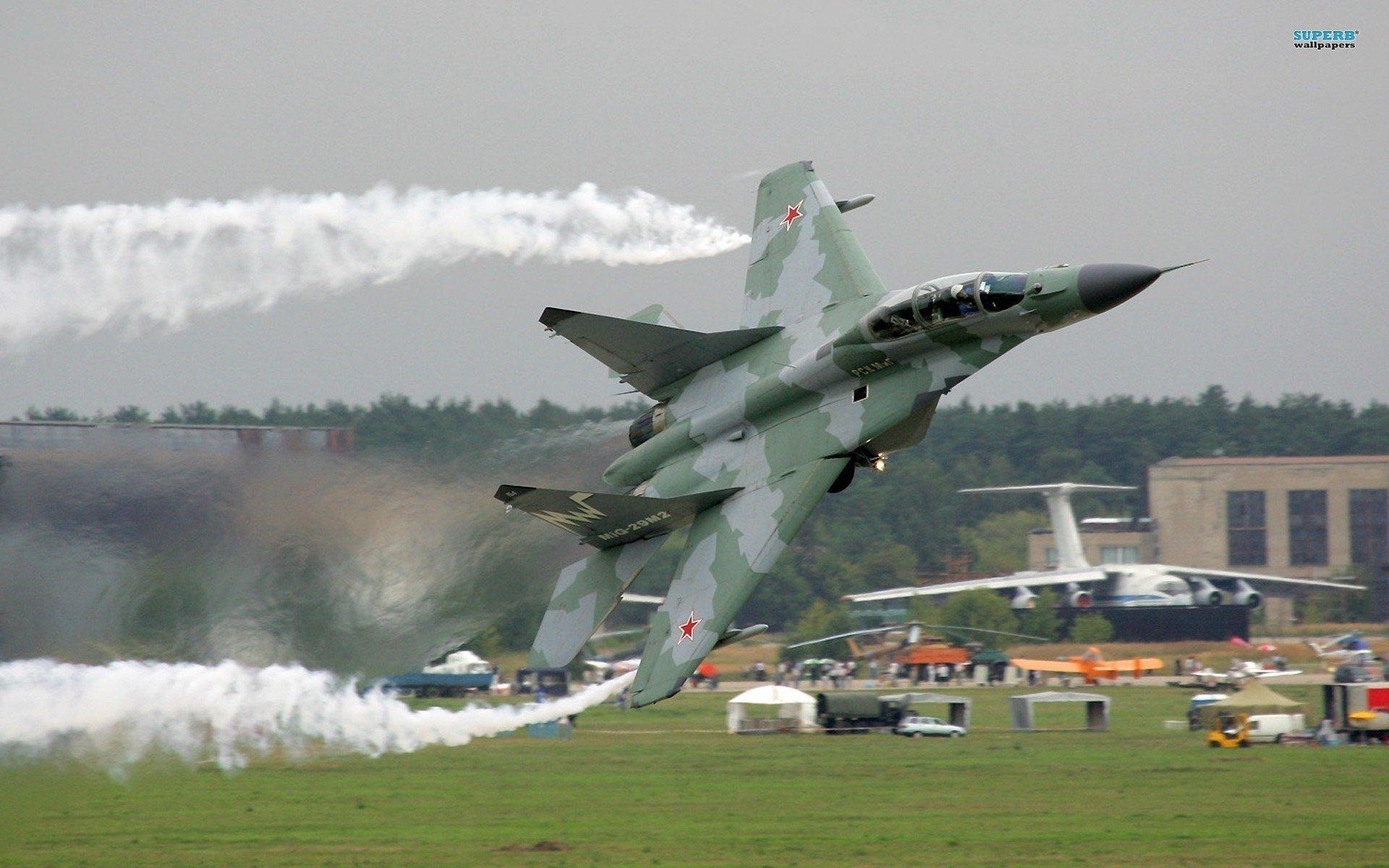aircraft: (376, 161, 1210, 715), (843, 489, 1296, 622)
